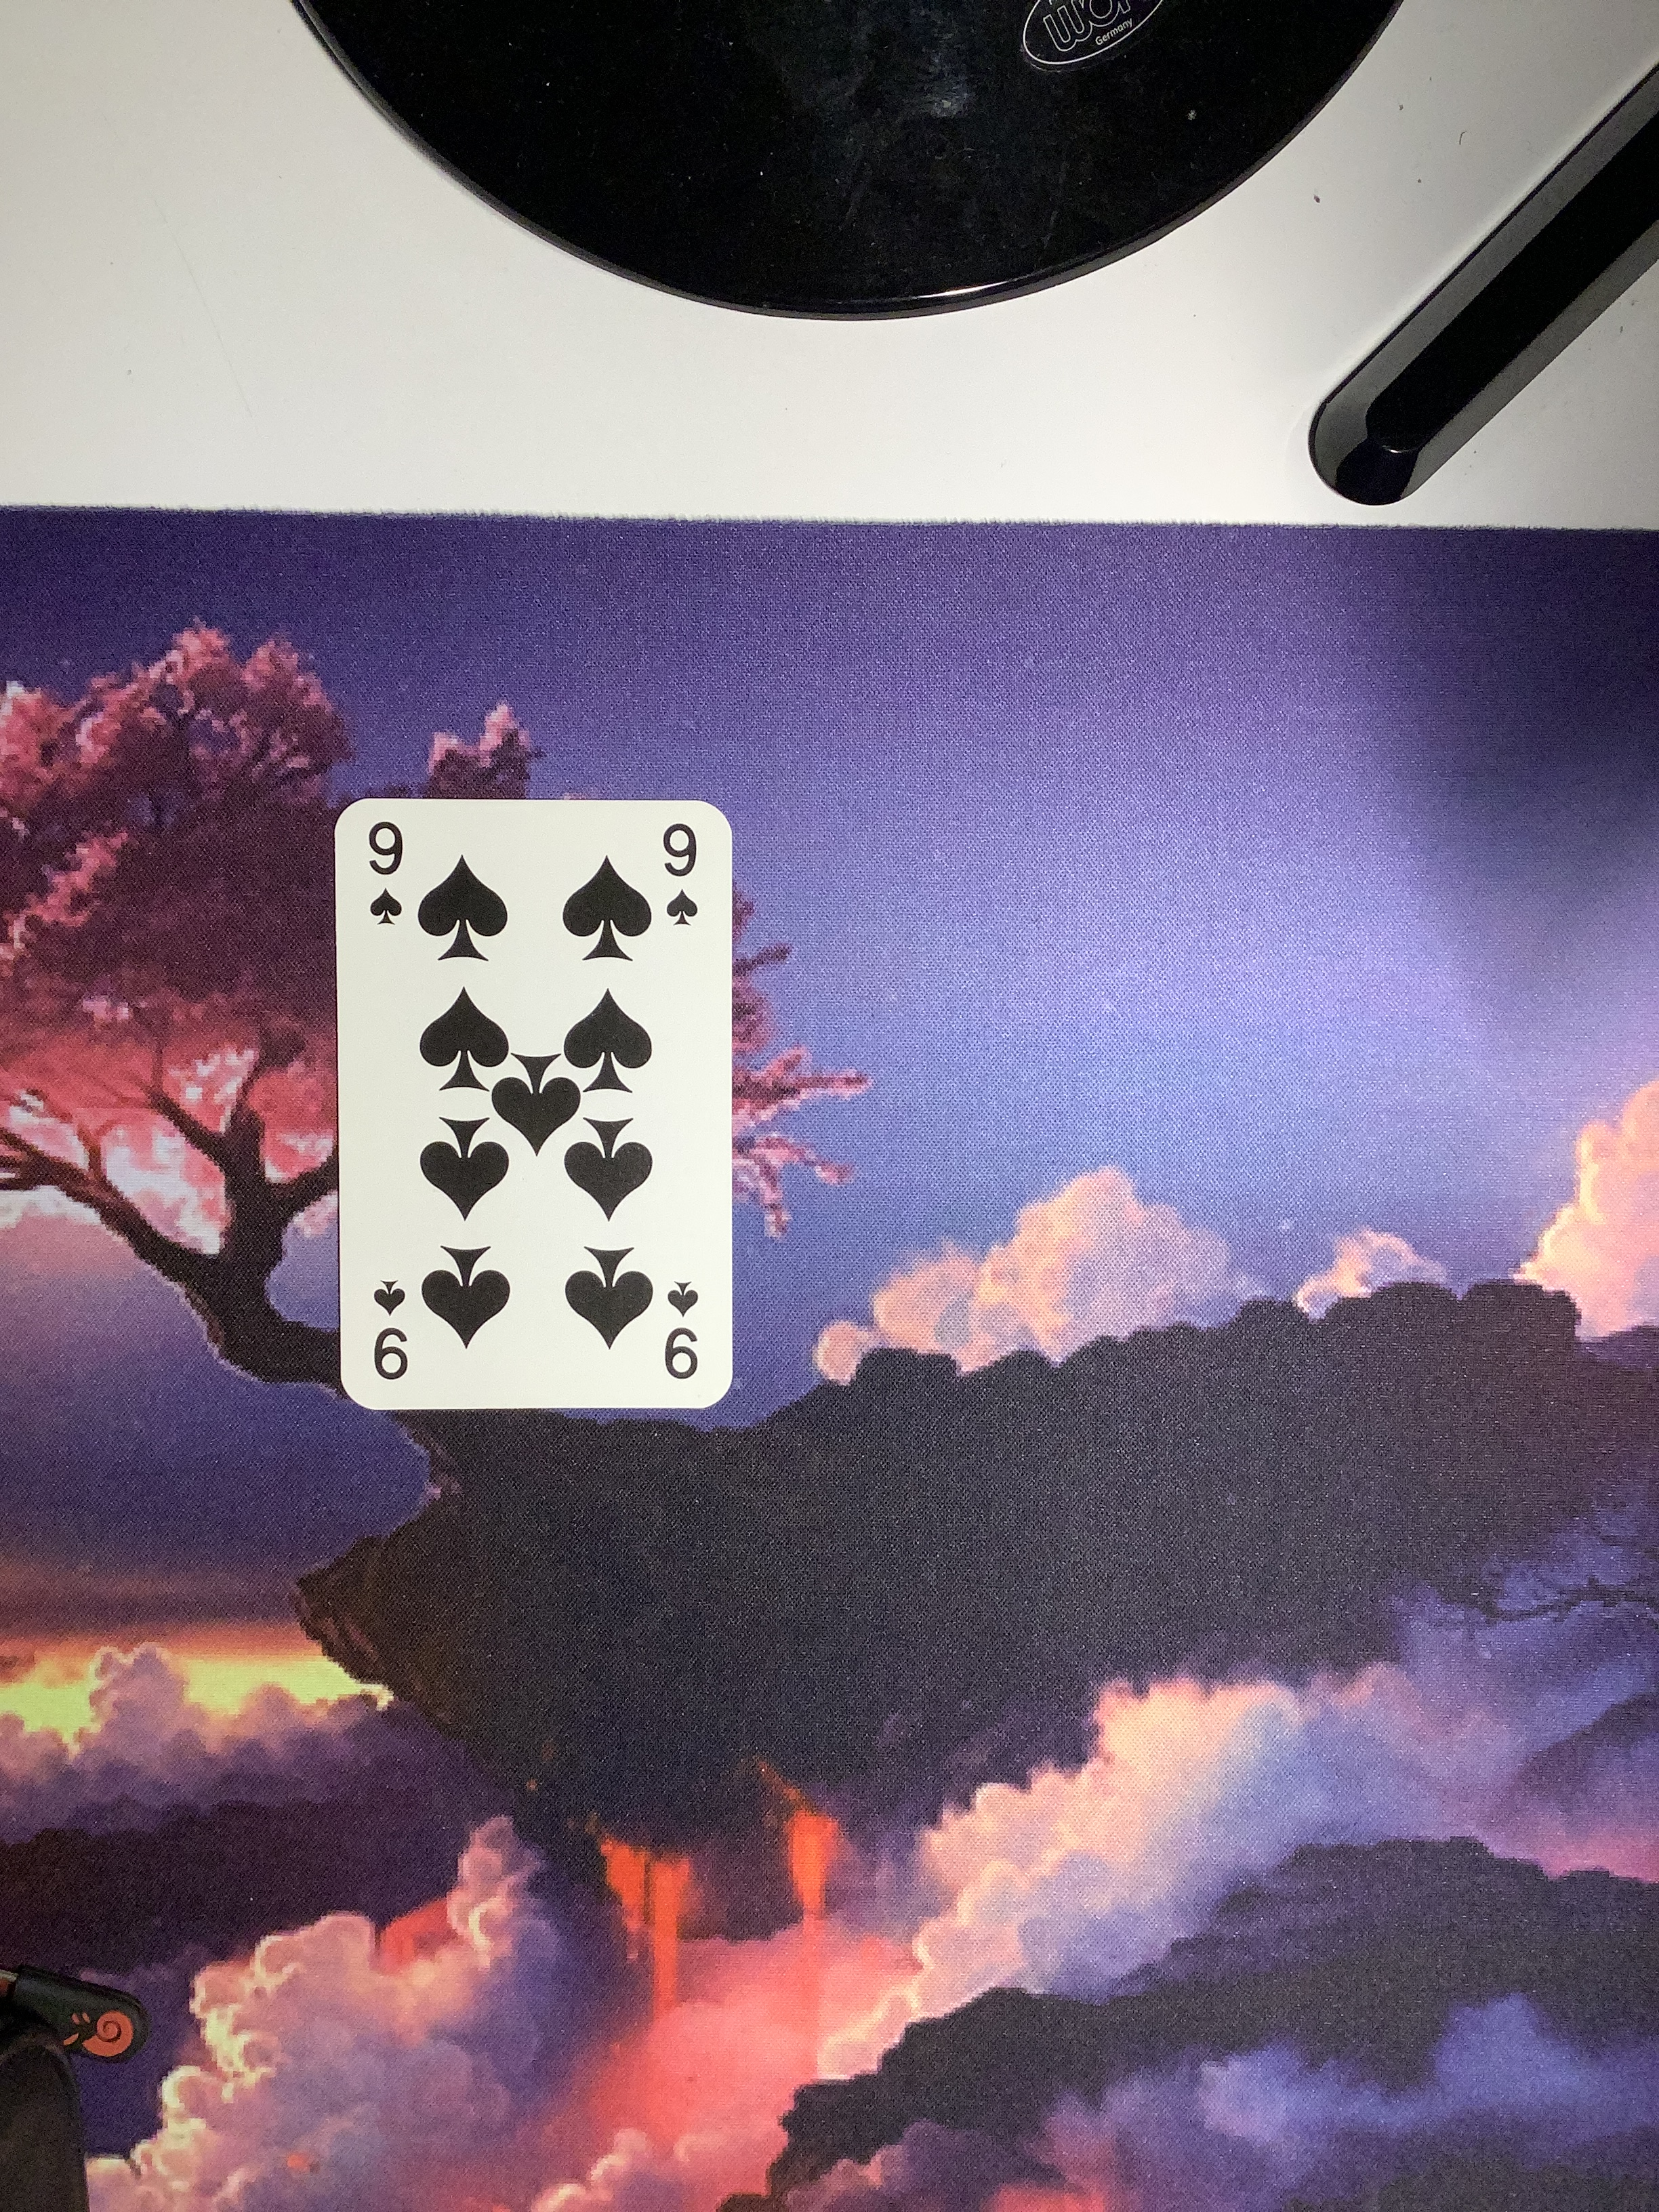♠ 9: (314, 791, 753, 1433)
